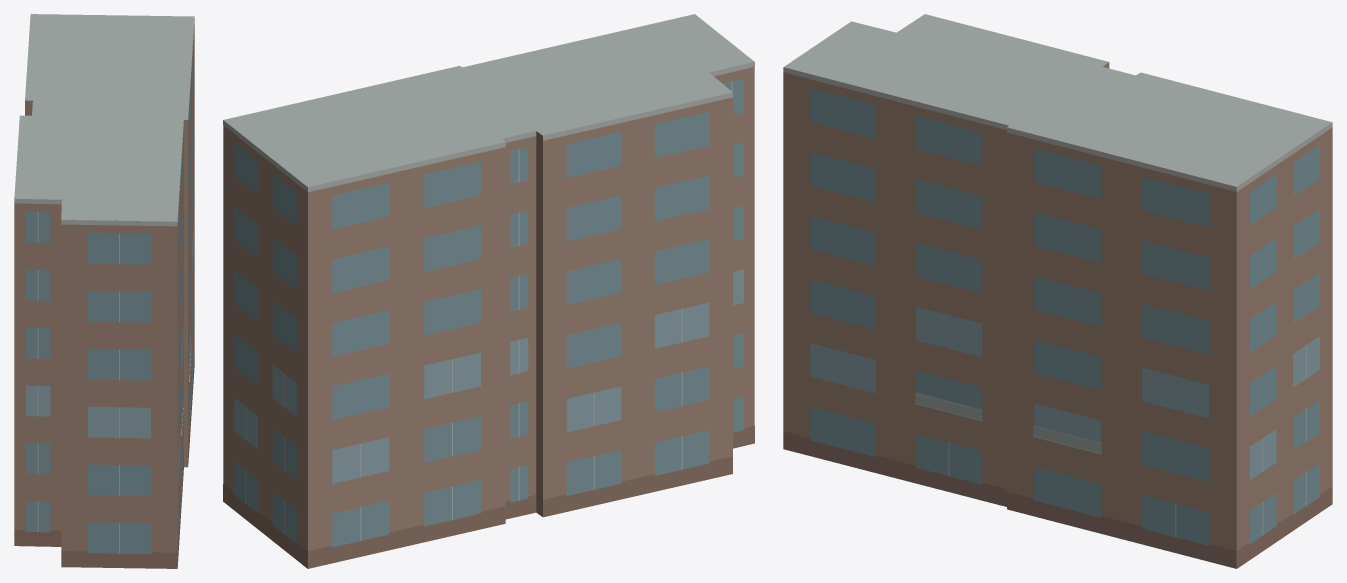
The model's file is survey-upis-32747142.glb.
3 renders of one model, left to right at view 1: azimuth 30°, elevation 25°; view 2: azimuth 150°, elevation 25°; view 3: azimuth 270°, elevation 25°, orthographic. The views are drawn at different scales.
Visible parts, largest first — view 1: survey-upis-32747142.tmp; view 2: survey-upis-32747142.tmp; view 3: survey-upis-32747142.tmp.
Part boxes in pixels (x1=…): survey-upis-32747142.tmp: x1=14, y1=14, x2=194, y2=568; survey-upis-32747142.tmp: x1=223, y1=14, x2=754, y2=568; survey-upis-32747142.tmp: x1=783, y1=14, x2=1332, y2=568.
Size of the model in its own units: 17.77 by 18.3 by 23.85.
